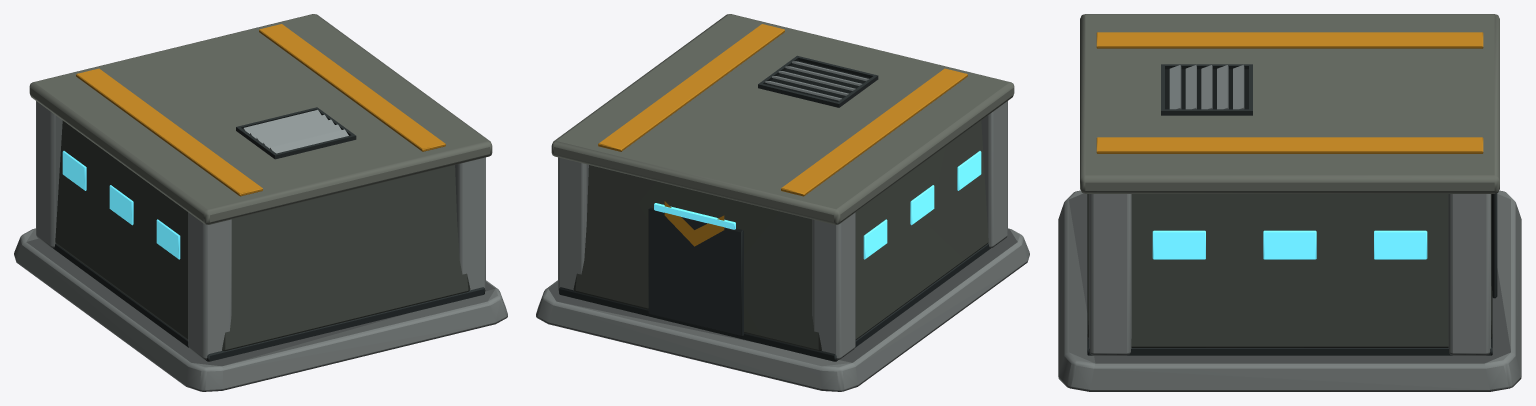
File: Barracks.glb
3 renders of one model, left to right at view 1: azimuth 30°, elevation 25°; view 2: azimuth 150°, elevation 25°; view 3: azimuth 270°, elevation 25°, orthographic. The views are drawn at different scales.
Parts seen in each view (by area): view 1: export_Barracks_Foundation; view 2: export_Barracks_Foundation; view 3: export_Barracks_Foundation.
Part boxes in pixels (box(x1,y1,x2,y2)): export_Barracks_Foundation: box(14, 14, 507, 391); export_Barracks_Foundation: box(536, 14, 1029, 391); export_Barracks_Foundation: box(1058, 14, 1521, 391).
Size of the model in its own units: 4.73 by 2.57 by 5.03.
